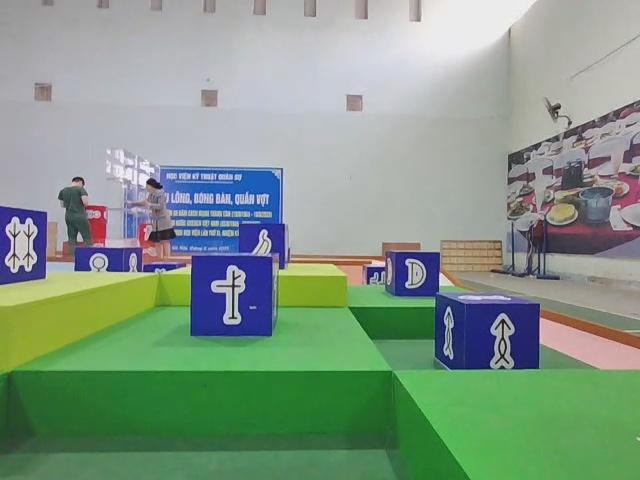R2 Real Blue: (436, 293, 541, 371), (189, 252, 279, 337), (0, 207, 46, 289), (386, 251, 442, 299), (241, 225, 292, 271), (73, 248, 140, 274)
